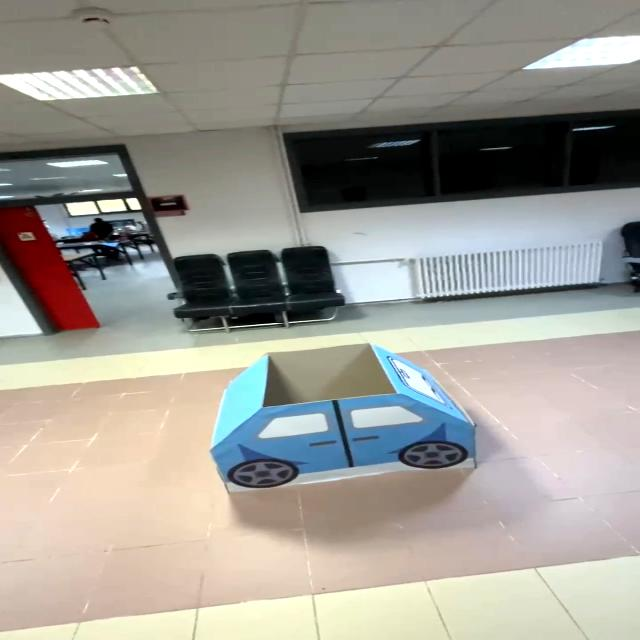blue_car: (178, 335, 505, 499)
